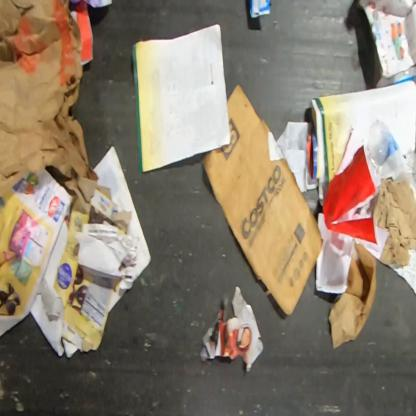cardboard: (199, 83, 322, 316), (0, 0, 100, 199), (38, 178, 133, 354), (327, 242, 377, 350), (357, 0, 415, 90)
rigid_plastic: (322, 122, 379, 244)
soft_plastic: (367, 119, 409, 184)
